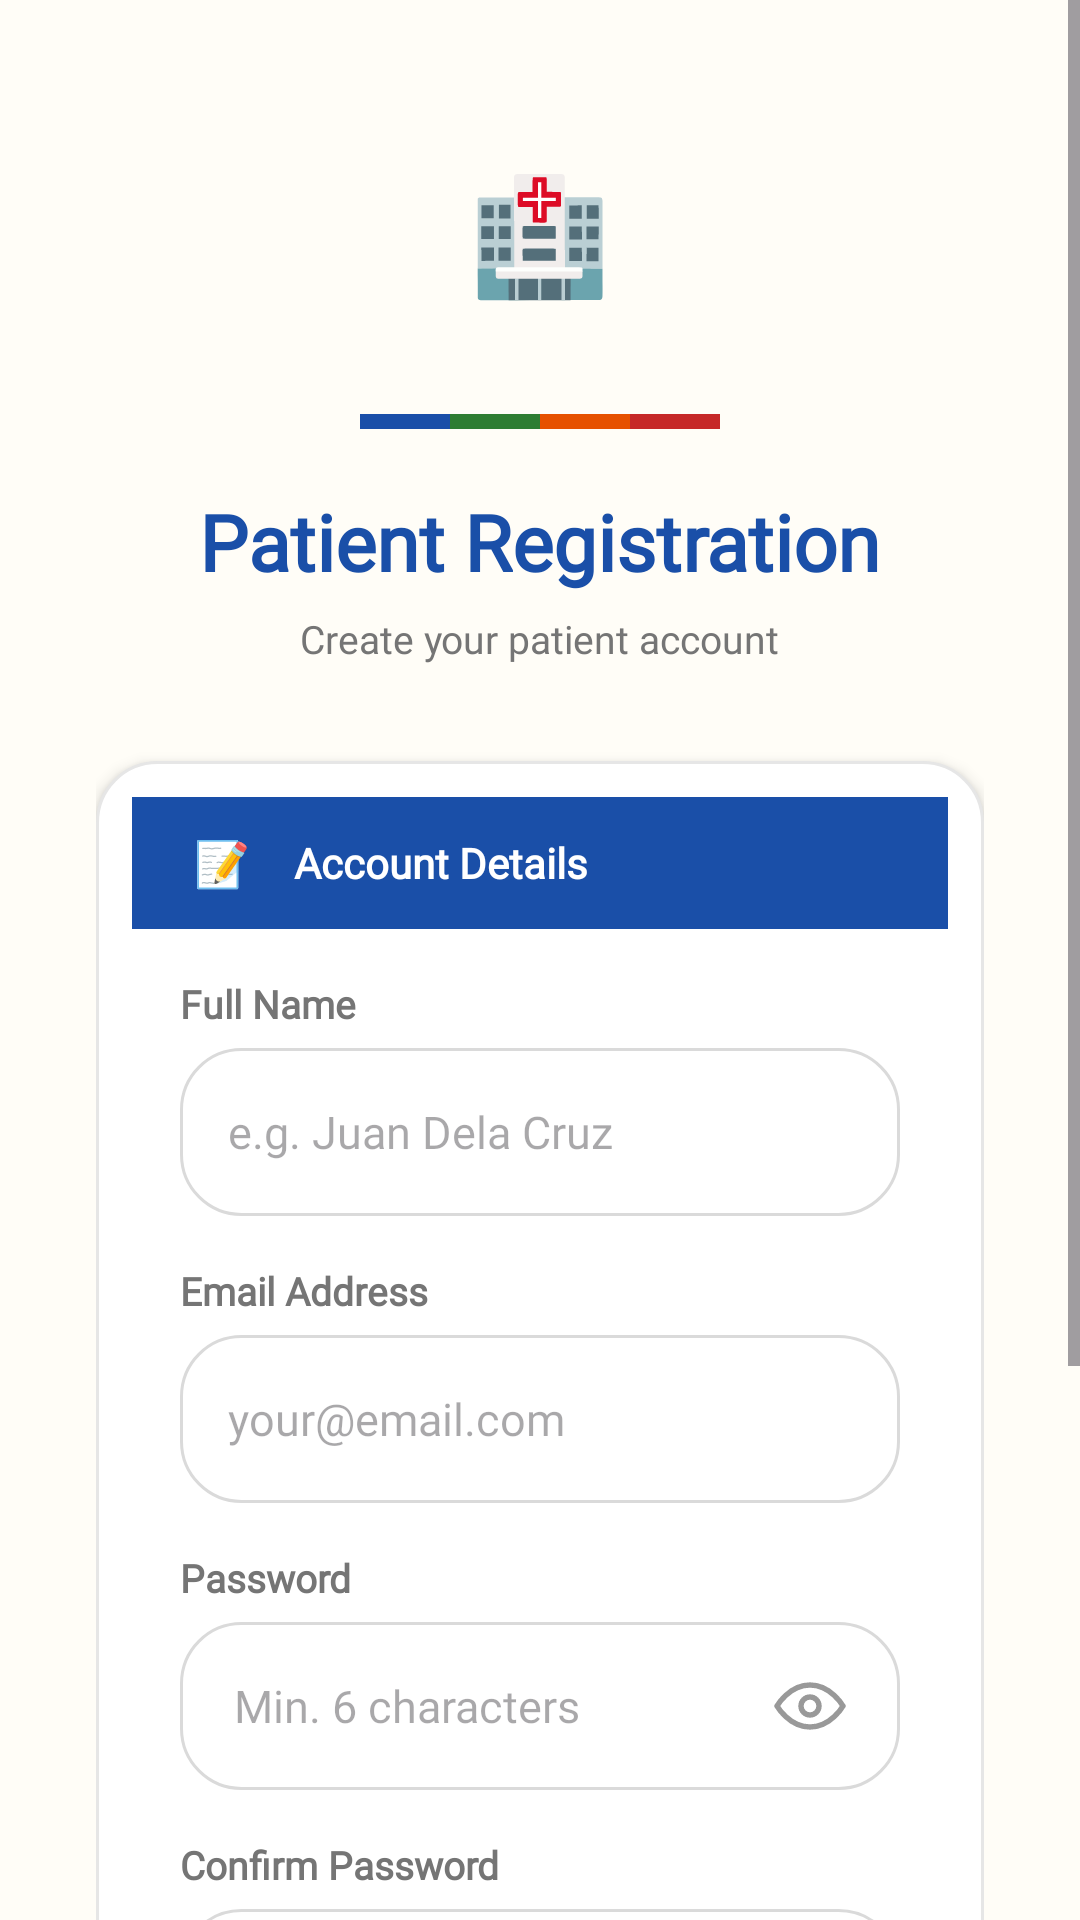

Where icons sit on this 1080w x 1920h app screen, as (x1,y1,x2,y2):
Toggle password: (774,1682,846,1730)
